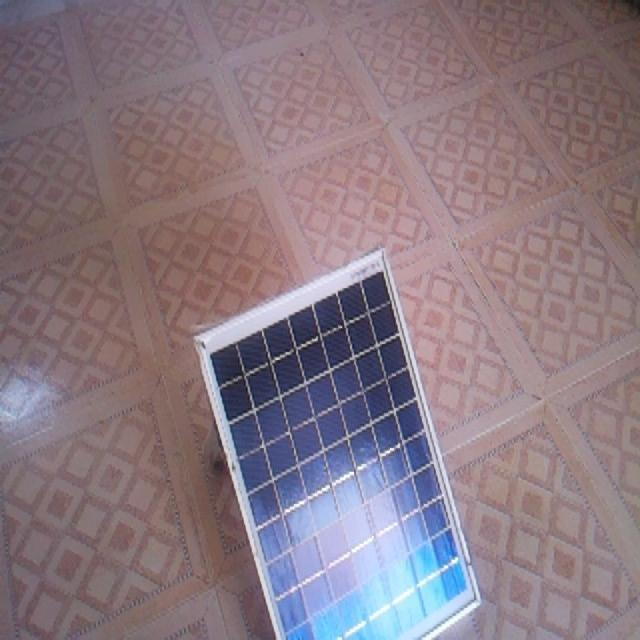Normal Solar Panel: (197, 249, 481, 640)
